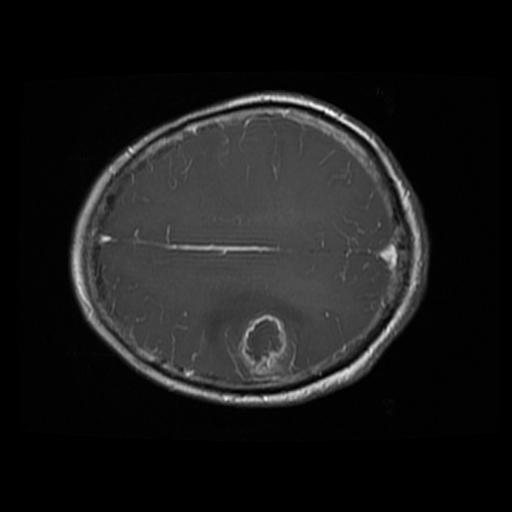glioma: (202, 292, 303, 380)
